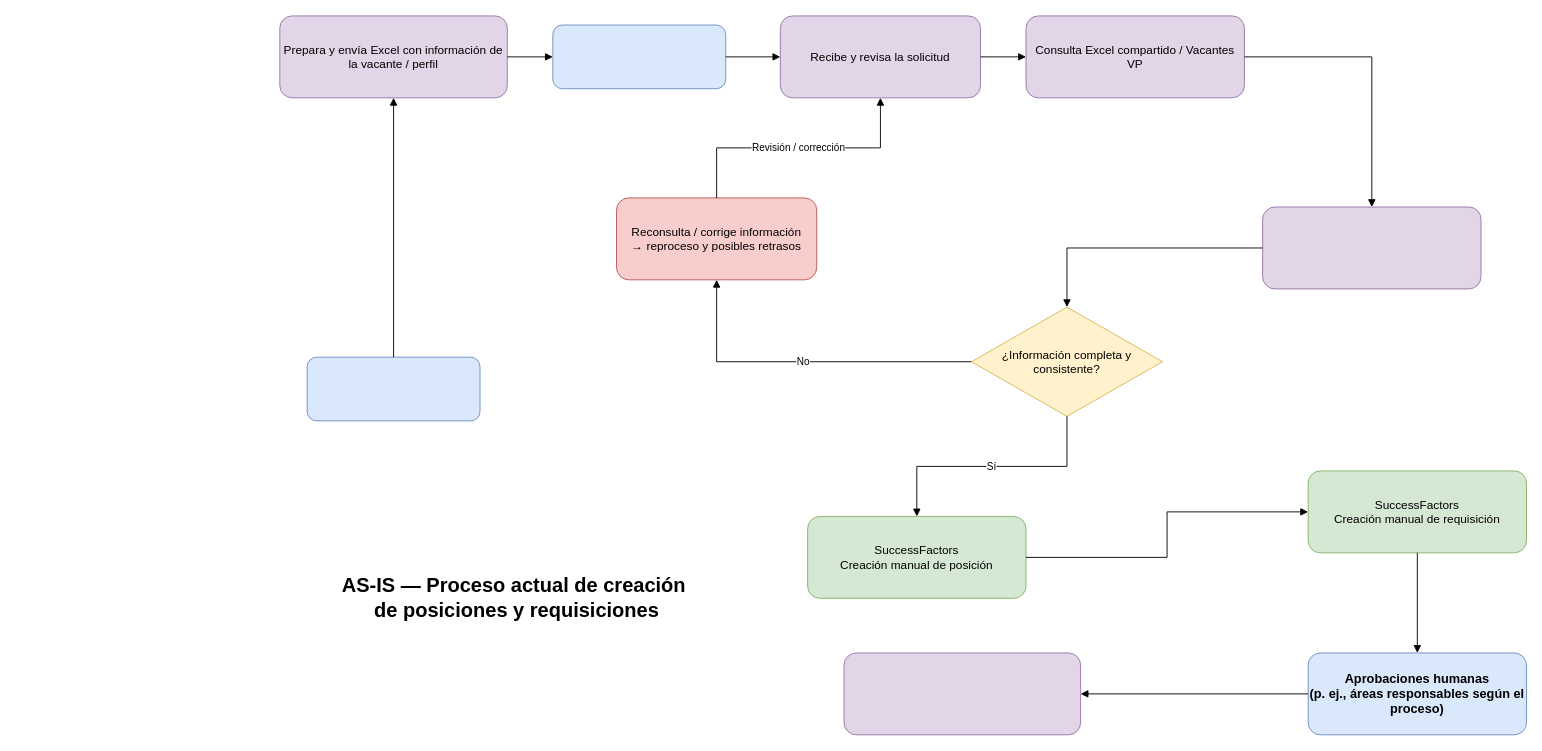
This 1542x751 diagram has some shape labels left out. Here are the shapes that lost their labels. From the top down, the centre of each, then its label:
At (x=639, y=56): "Recursos Humanos".
At (x=1371, y=247): "Compara y valida información entre fuentes".
At (x=393, y=388): "Área solicitante / líder".
At (x=962, y=693): "Continuidad del proceso de selección / contratación".
